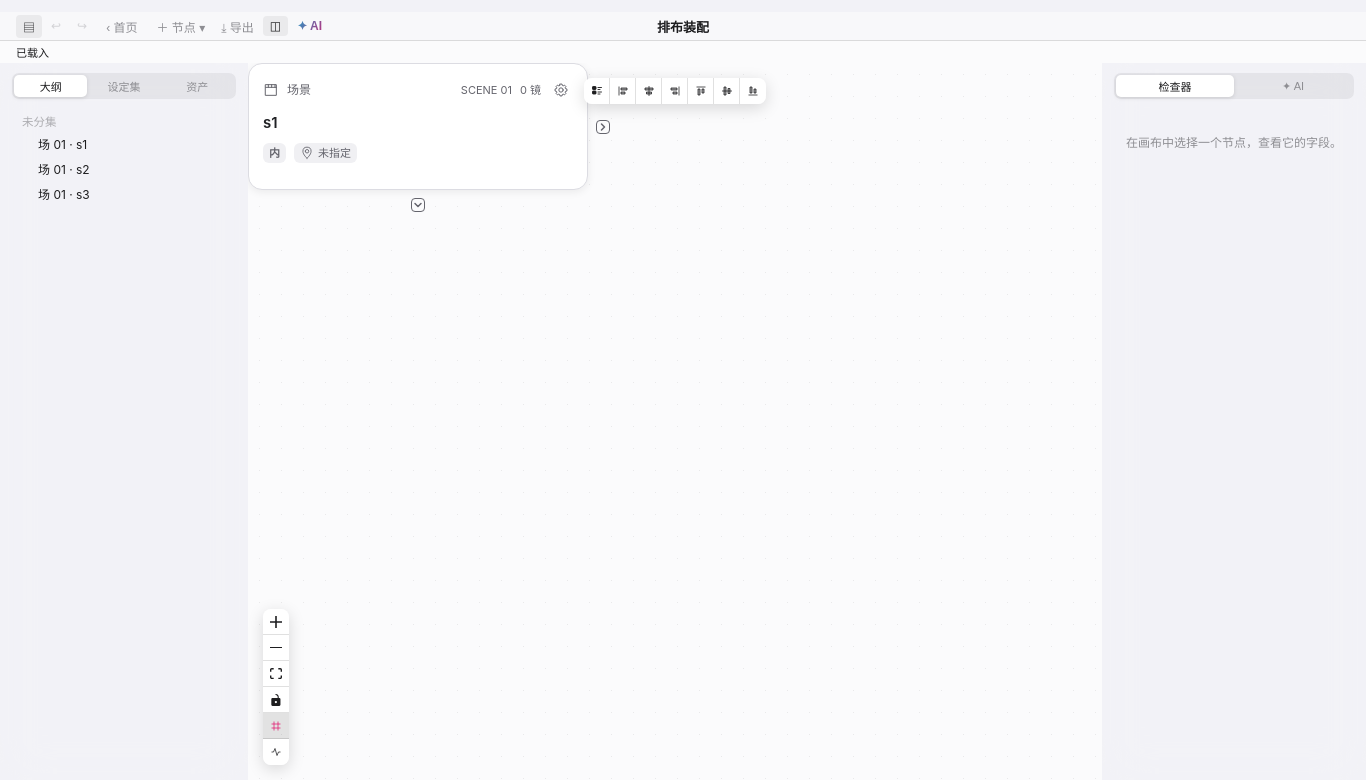
Test case: 画布工具栏自动排布（issue #94 装配） › 点击后排布位置入命令栈：撤销恢复原状、栈回到空
Click the button named "自动排布": (597, 91) [584, 78, 610, 104]
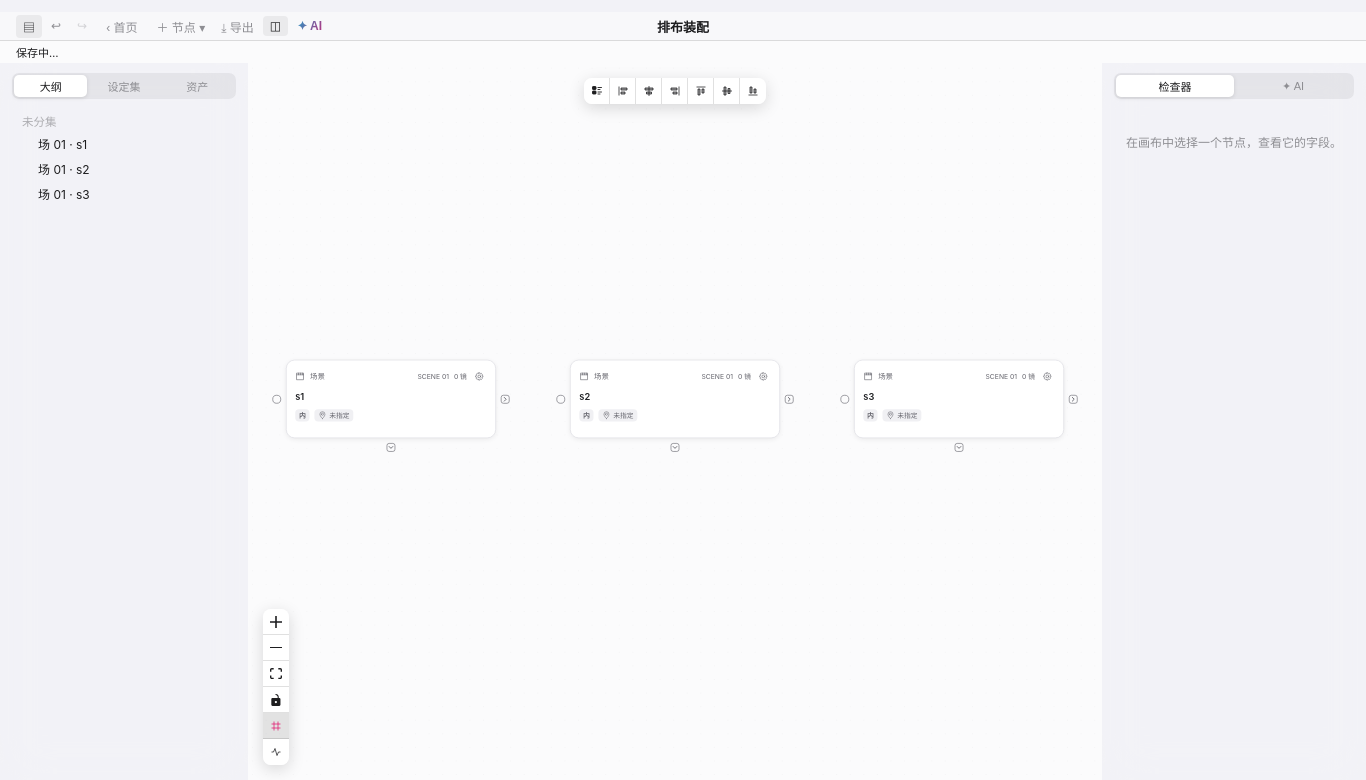
Result: the button named "撤销" is enabled
Click the button named "撤销": (56, 26) [44, 16, 68, 36]
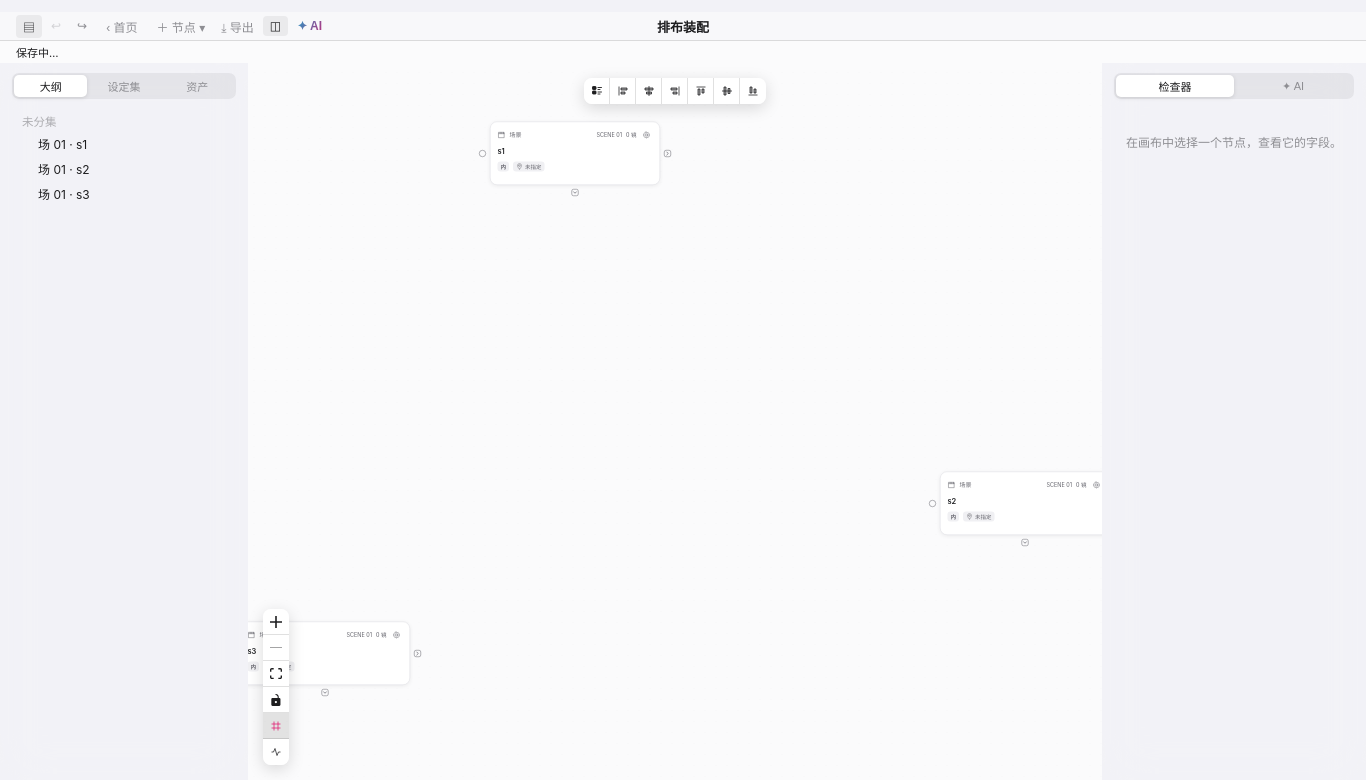
Result: the button named "撤销" is disabled at [44, 16, 68, 36]
